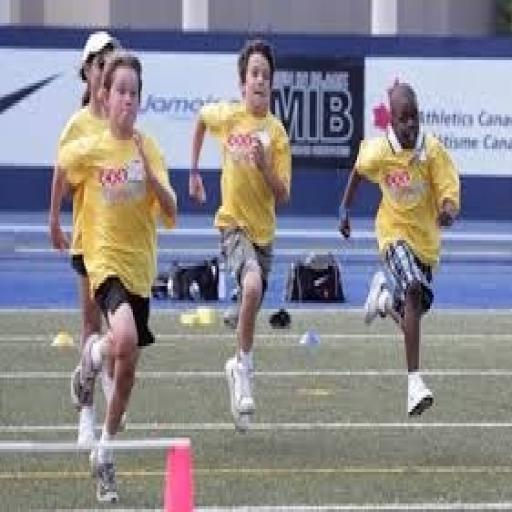running: (50, 46, 180, 506), (335, 78, 465, 420), (186, 37, 295, 435)
